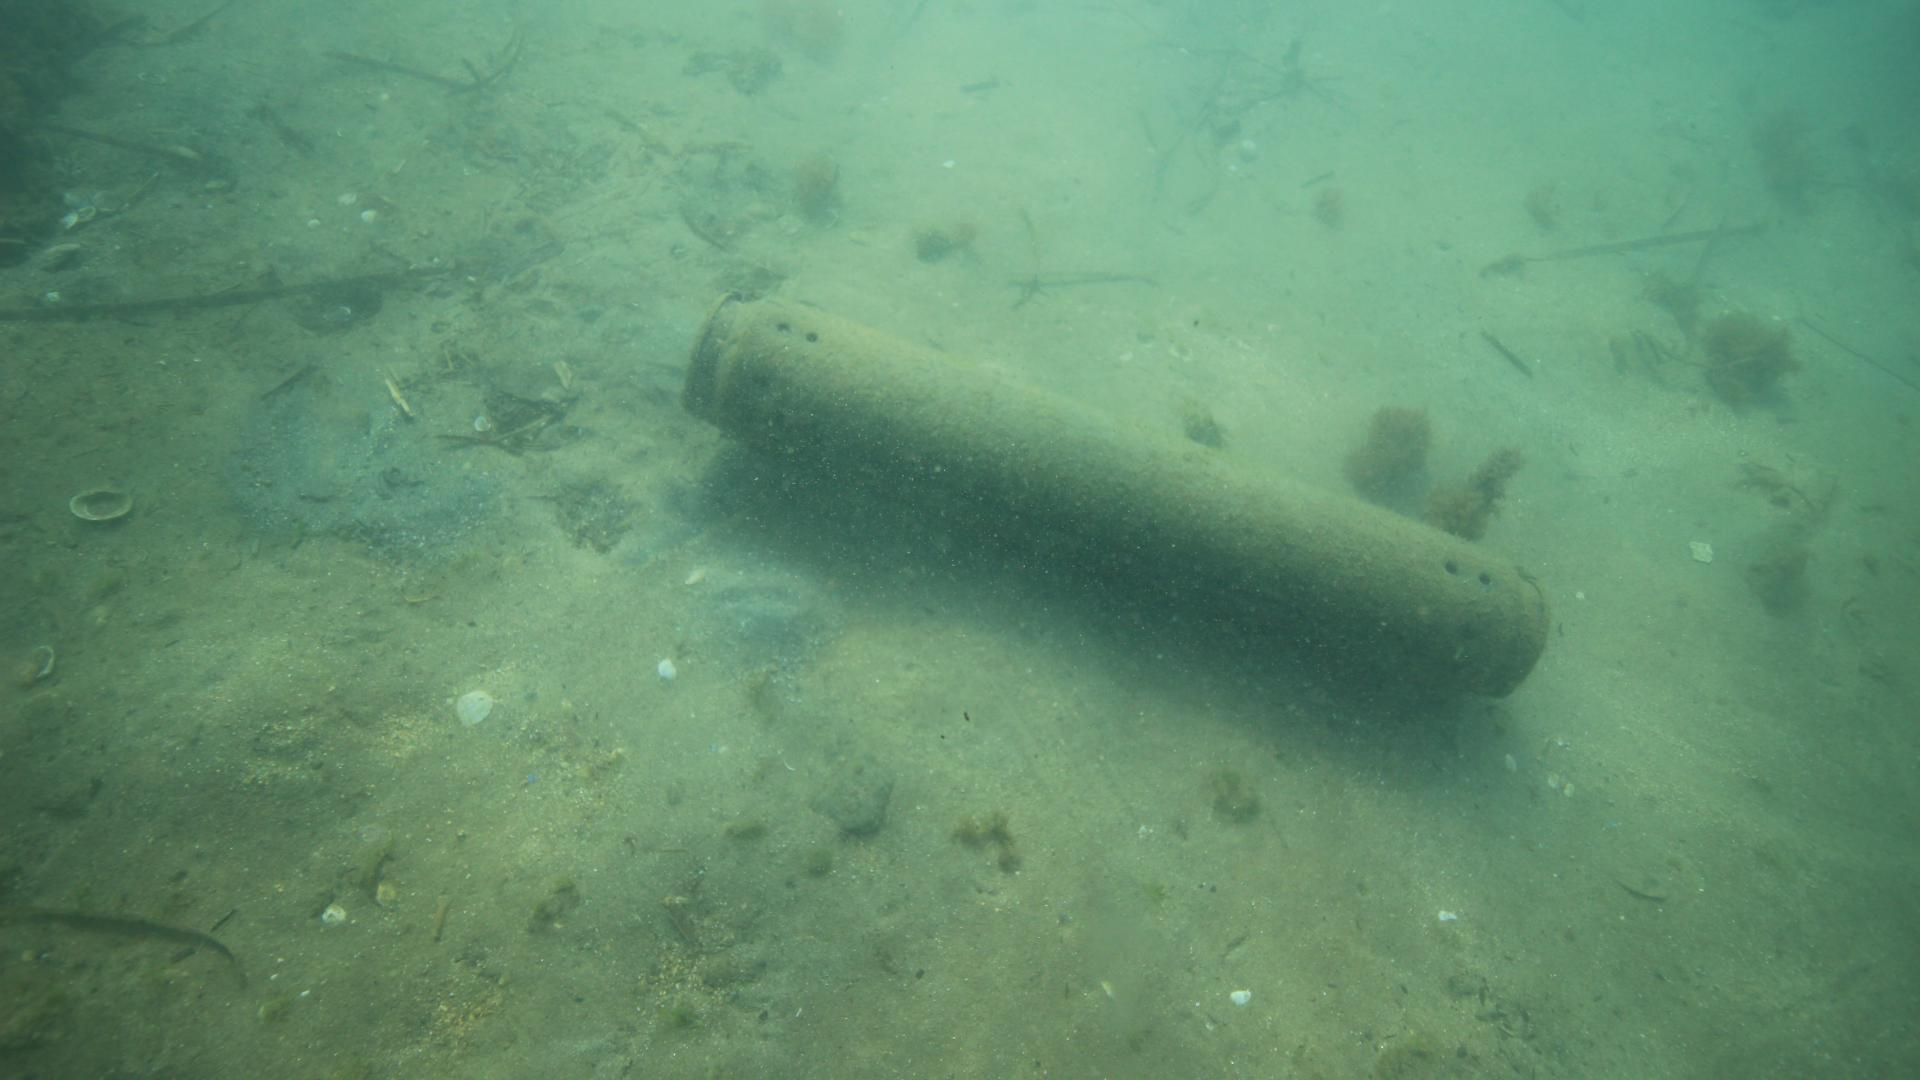eel fish trap: (675, 287, 1553, 698)
